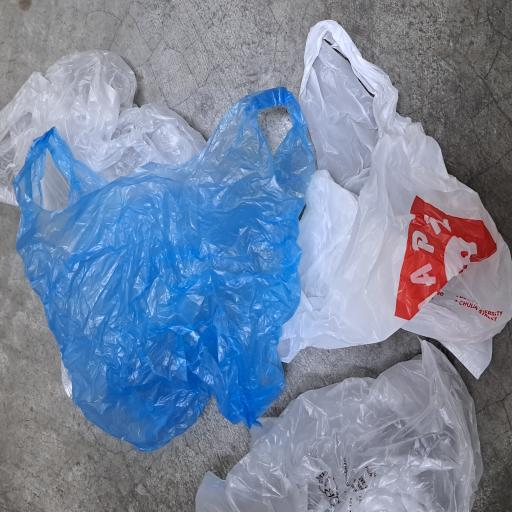plastic bag: (47, 18, 319, 420), (99, 366, 371, 512), (223, 0, 345, 276), (0, 260, 131, 512)
